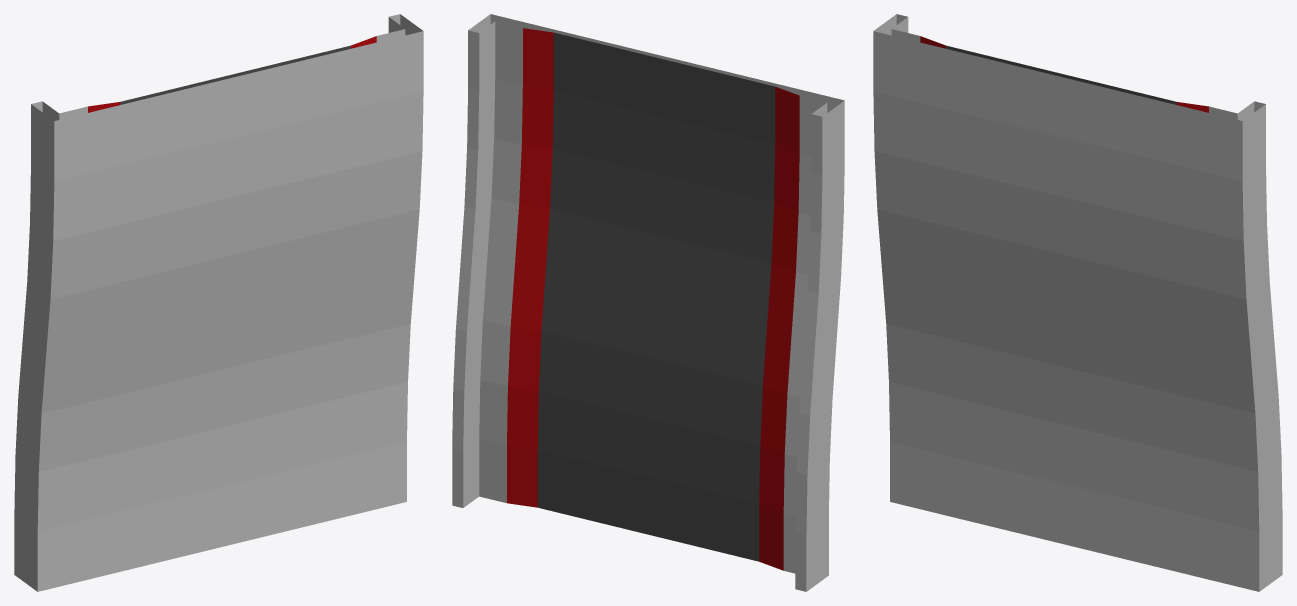
Rendered from Roller_Pitch1.fbx.
3 views of the same model, side by side, from view 1: azimuth 30°, elevation 25°; view 2: azimuth 150°, elevation 25°; view 3: azimuth 330°, elevation 25° (orthographic). The views are drawn at different scales.
Visible parts, largest first — view 1: Roller_Pitch1; view 2: Roller_Pitch1; view 3: Roller_Pitch1.
Part boxes in pixels (x1,y1,x2,y2): Roller_Pitch1: (14,14,423,591); Roller_Pitch1: (452,14,844,591); Roller_Pitch1: (873,14,1282,591).
Size of the model in its own units: 1280 by 1600 by 240.
